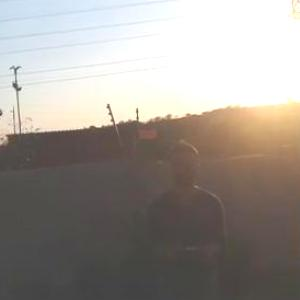follow: (142, 138, 234, 299)
